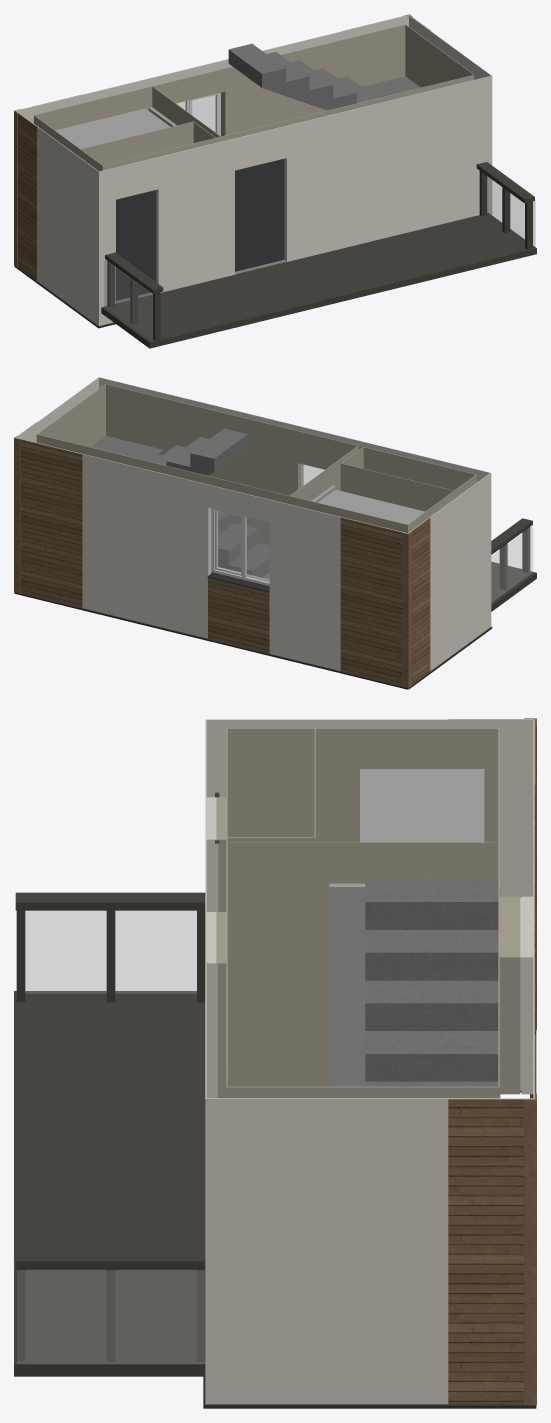
File: Trepikoda_2K_Viimistlus_B.glb
The picture shows the model from 3 angles, top to bottom: view 1: azimuth 30°, elevation 25°; view 2: azimuth 150°, elevation 25°; view 3: azimuth 270°, elevation 25°; orthographic projection. The views are drawn at different scales.
Parts seen in each view (by area): view 1: Kiudtsementplaat_090, Box339, Kiudtsementplaat_091, Uks_042 (×2), UTypeStair012, Box338 (×2), Box350, Box346, Box342, Box340 (×2), Aken_Tava_149, Box347; view 2: Kiudtsementplaat_090, Kiudtsementplaat_091, Box349 (×2), UTypeStair012, Aken_Tava_149, Box454, Box350, Box347 (×3), Box338, Box346, Box339, Veeplekk_elementide_vahel_156 (+2 smaller); view 3: Kiudtsementplaat_090, Box339, Kiudtsementplaat_091, Box338 (×2), UTypeStair012, Box350, Box346, Box345, Box340 (×2), Box342, Box347, Veeplekk_elementide_vahel_155.
Boxes of the visible parts, box(x1,y1,x2,y2) form: Kiudtsementplaat_090: box(16, 15, 492, 325); Box339: box(101, 213, 536, 348); Kiudtsementplaat_091: box(33, 24, 474, 303); Uks_042 (×2): box(116, 159, 284, 300); UTypeStair012: box(228, 43, 420, 110); Box338 (×2): box(104, 177, 535, 340); Box350: box(18, 113, 37, 280); Box346: box(55, 108, 170, 148); Box342: box(107, 171, 532, 340); Box340 (×2): box(105, 162, 534, 293); Aken_Tava_149: box(176, 92, 220, 135); Box347: box(14, 110, 17, 267); Kiudtsementplaat_090: box(16, 377, 491, 670); Kiudtsementplaat_091: box(36, 384, 476, 544); Box349 (×2): box(21, 439, 401, 686); UTypeStair012: box(90, 428, 269, 577); Aken_Tava_149: box(207, 508, 269, 592); Box454: box(208, 577, 269, 653); Box350: box(411, 518, 430, 684); Box347 (×3): box(15, 438, 411, 688); Box338: box(491, 525, 532, 602); Box346: box(318, 489, 424, 524); Box339: box(491, 562, 536, 611); Veeplekk_elementide_vahel_156: box(14, 592, 408, 689); Kiudtsementplaat_090: box(205, 719, 534, 1404); Box339: box(14, 991, 205, 1376); Kiudtsementplaat_091: box(216, 728, 520, 1098); Box338 (×2): box(17, 911, 204, 1363); UTypeStair012: box(365, 879, 498, 1086); Box350: box(448, 1099, 523, 1404); Box346: box(360, 769, 484, 842); Box345: box(329, 880, 500, 1097); Box340 (×2): box(15, 892, 205, 1269); Box342: box(16, 910, 205, 1361); Box347: box(524, 1099, 536, 1405); Veeplekk_elementide_vahel_155: box(203, 1404, 536, 1408).
Size of the model in its own units: 8.36 by 3.53 by 4.84.
Materials: 13 (3 with a texture image).
